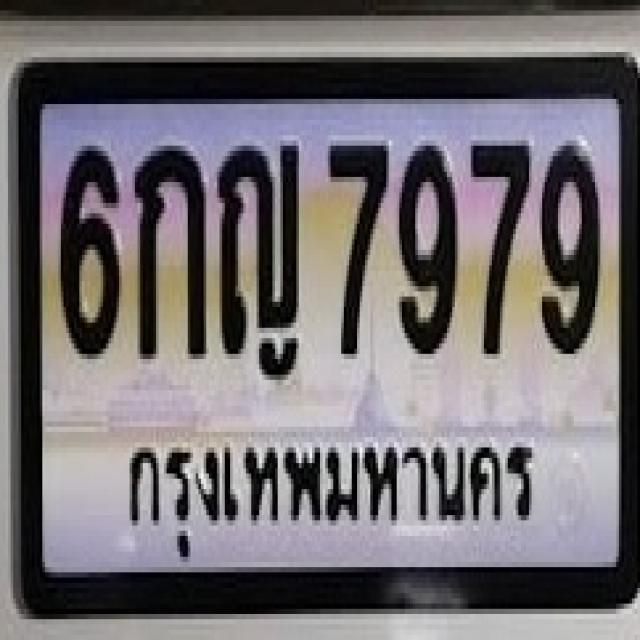license_plate: (17, 55, 640, 620)
